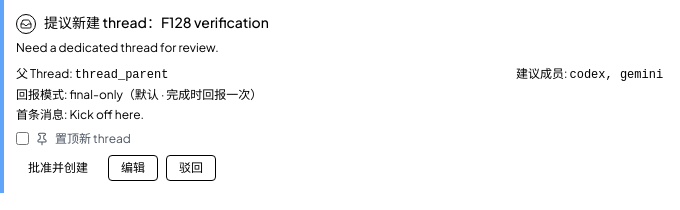
Test: ProposalCard › approve POSTs to /api/proposals/:id/approve and flips card to approved state
Click the button "批准并创建" at x=58, y=168, box top-left (16, 154), bottom-right (100, 180)
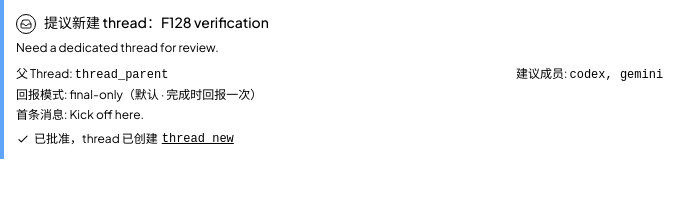
Expected: the text "已批准" is shown, top-left (34, 130), bottom-right (158, 146)
Expected: the text "thread_new" is shown, top-left (162, 130), bottom-right (234, 146)
